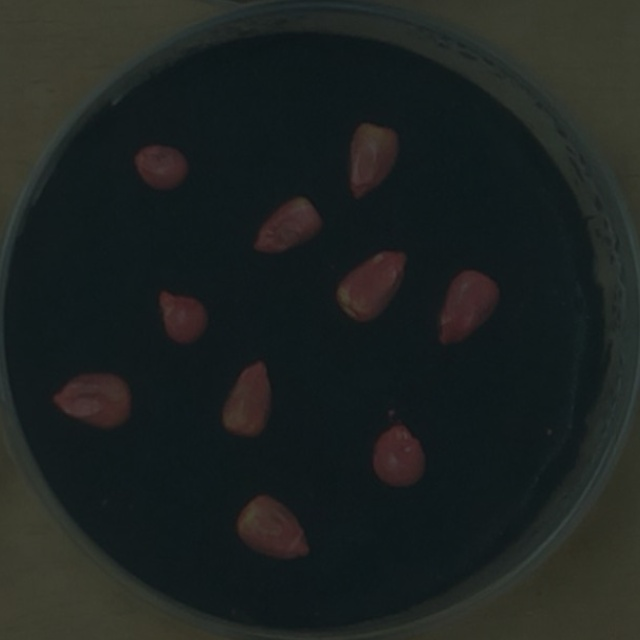Zea mays: (328, 241, 416, 331), (228, 485, 320, 571), (43, 363, 140, 439), (428, 261, 508, 352), (244, 188, 331, 262), (340, 114, 408, 208), (214, 353, 281, 447), (364, 415, 434, 495), (149, 281, 217, 354), (126, 138, 197, 201)
